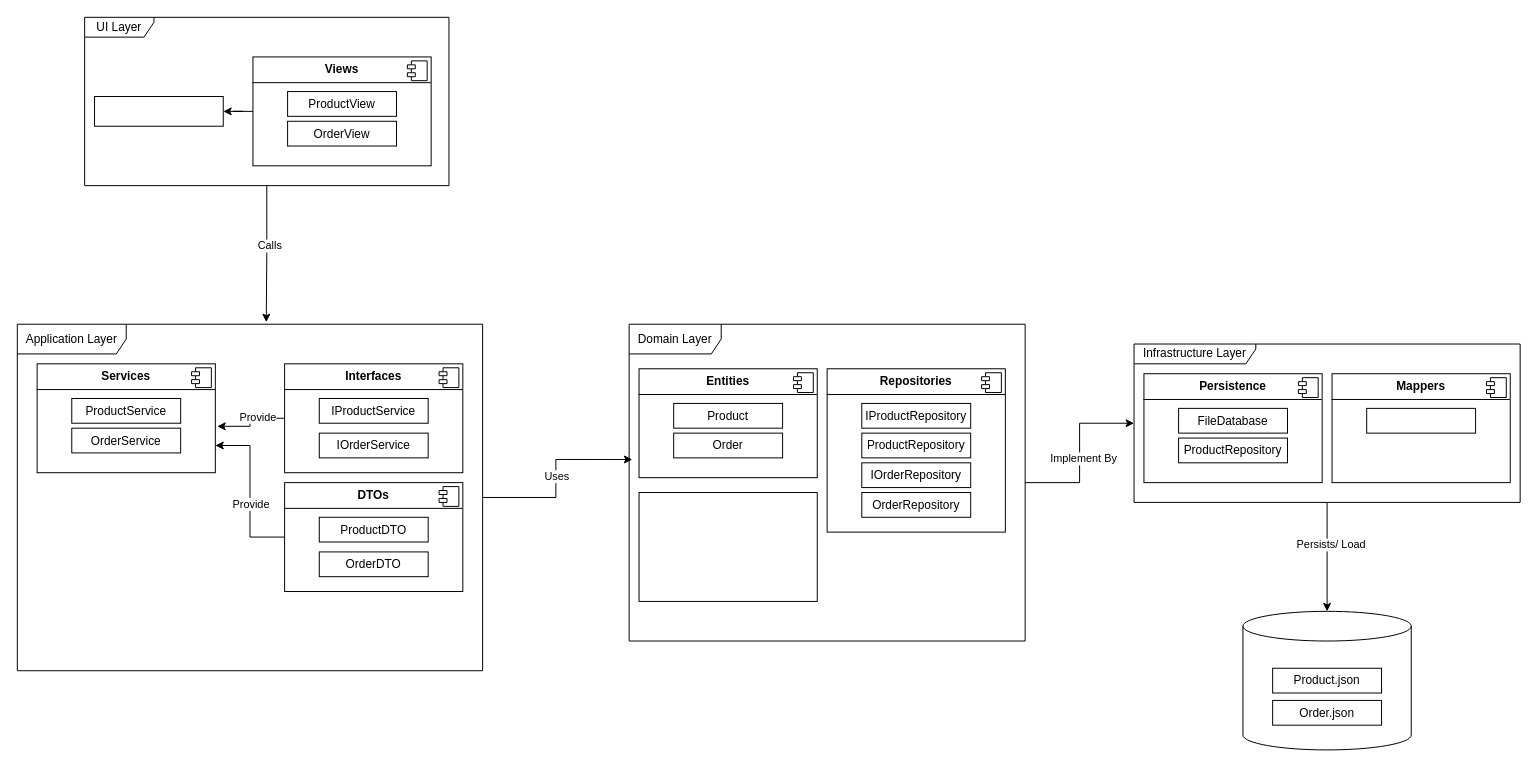
Image size: 1537x767. Some labels were removed from this diagram. The centre of each missing label's shape, as x and y in pixels:
"DTOMappers" belongs at pixel 1421 420.
"program.cs" belongs at pixel 158 111.
"ValueObjects" belongs at pixel 727 546.
